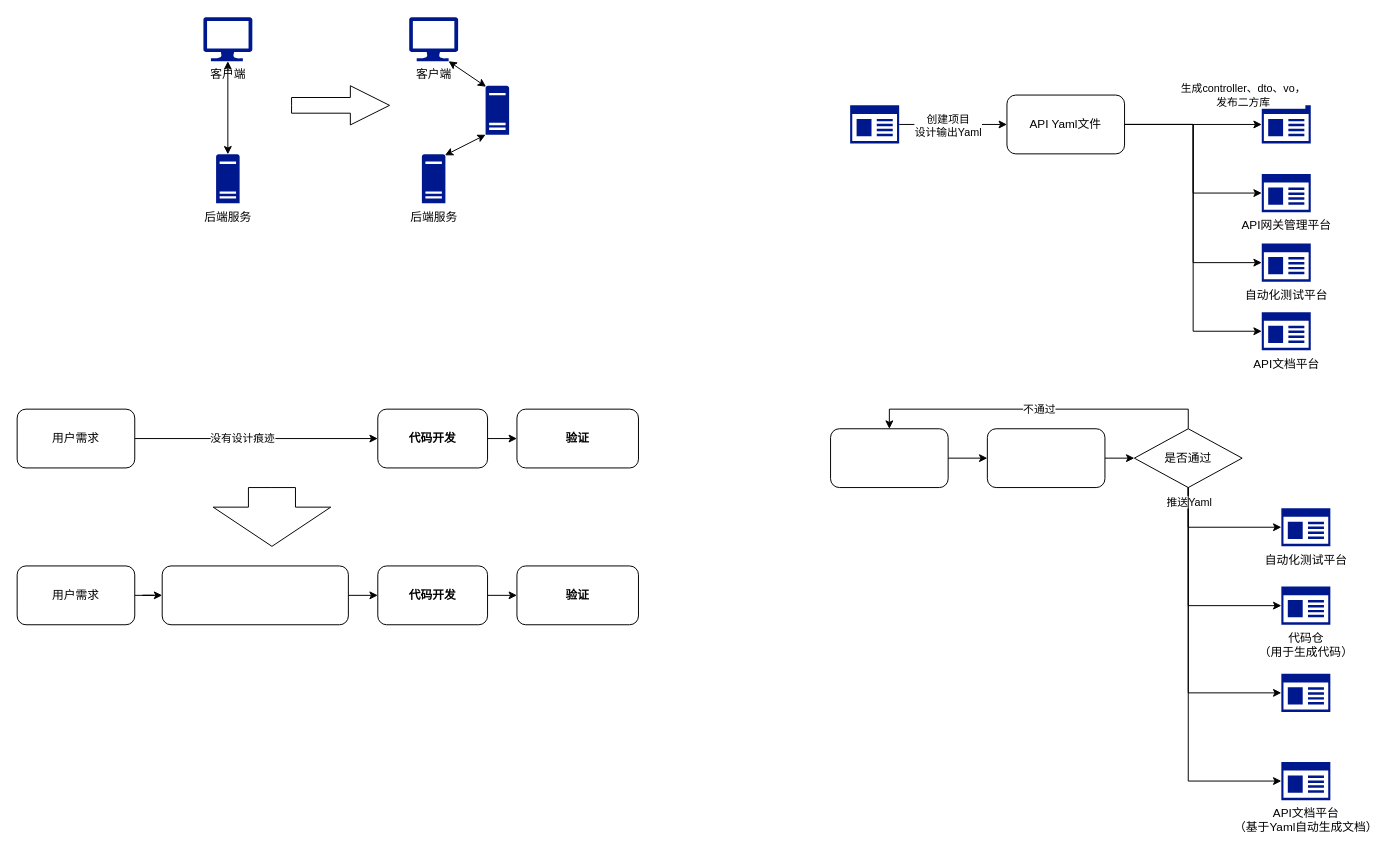
This 1395x852 diagram has some shape labels left out. Here are the shapes that lost their labels. From the top down, the centre of each, then its label:
(x=497, y=109): API网关（公司）
(x=874, y=124): API Designer
(x=1285, y=124): 二方库管理平台
(x=889, y=458): 设计API
(x=1045, y=458): 评审API
(x=254, y=595): 需求设计 （特性定义、ER图设计、API设计、UML设计等）
(x=1305, y=692): 代码仓 （用于注册API网关）
